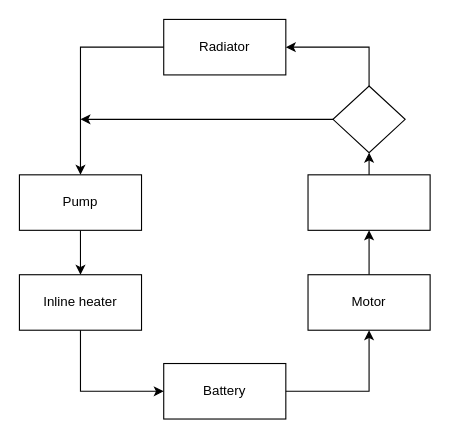
This 450x438 diagram has some shape labels left out. The shapes that lost their labels are listed below. From the top down, each one's box as (x1, y1, x2, y2) in pixels, then its label:
(332, 85, 405, 153): 3-way valve
(307, 174, 430, 230): Inverter
